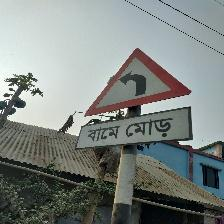Left-Turn: (79, 48, 195, 150)
